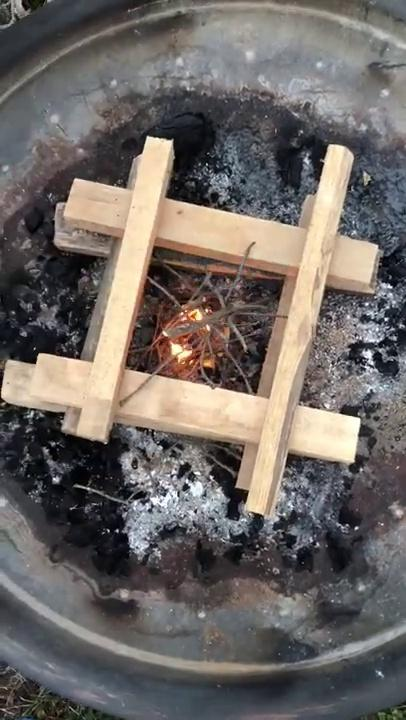Fire: (158, 286, 237, 378)
